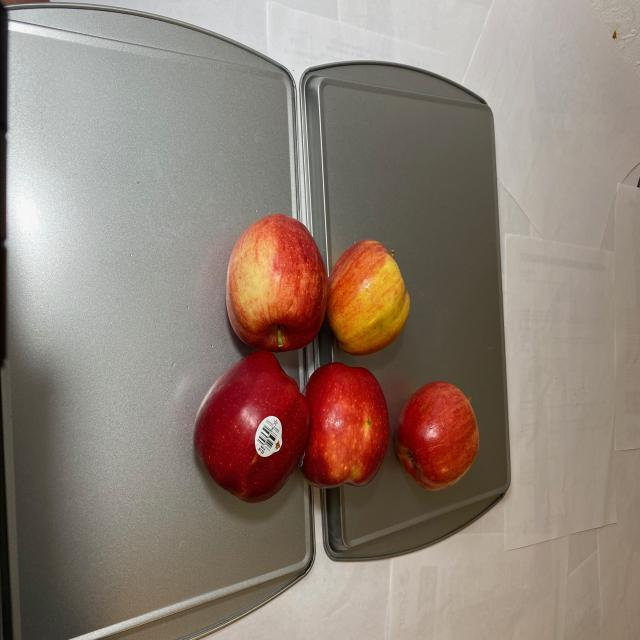apple: (191, 212, 481, 502)
